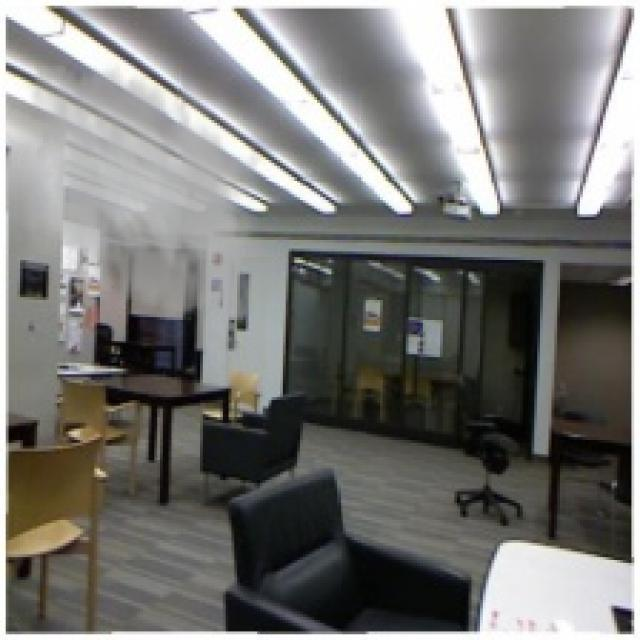Smoke: (11, 52, 280, 334)
